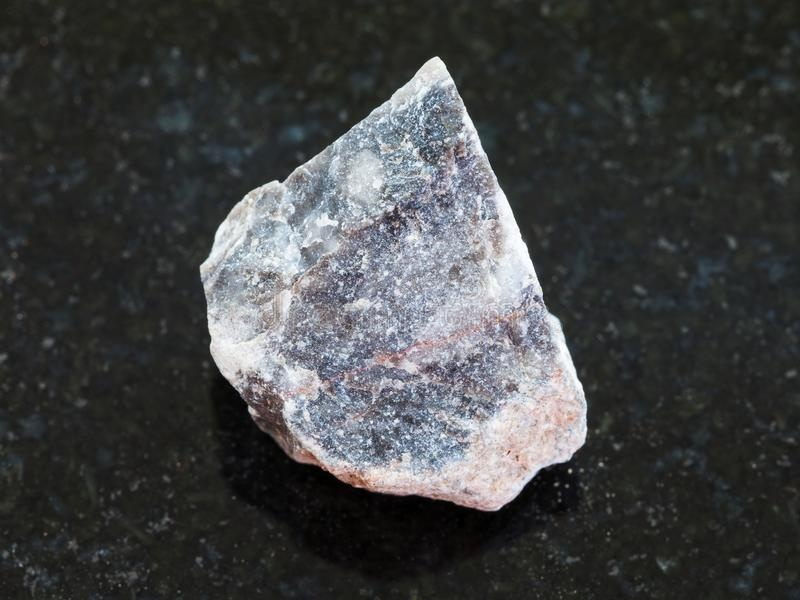obstacle: (201, 58, 586, 509)
